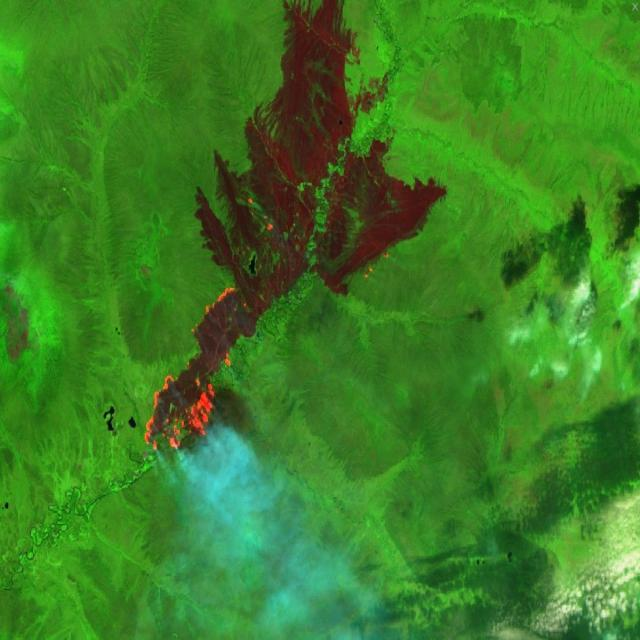fire: (142, 280, 252, 459)
